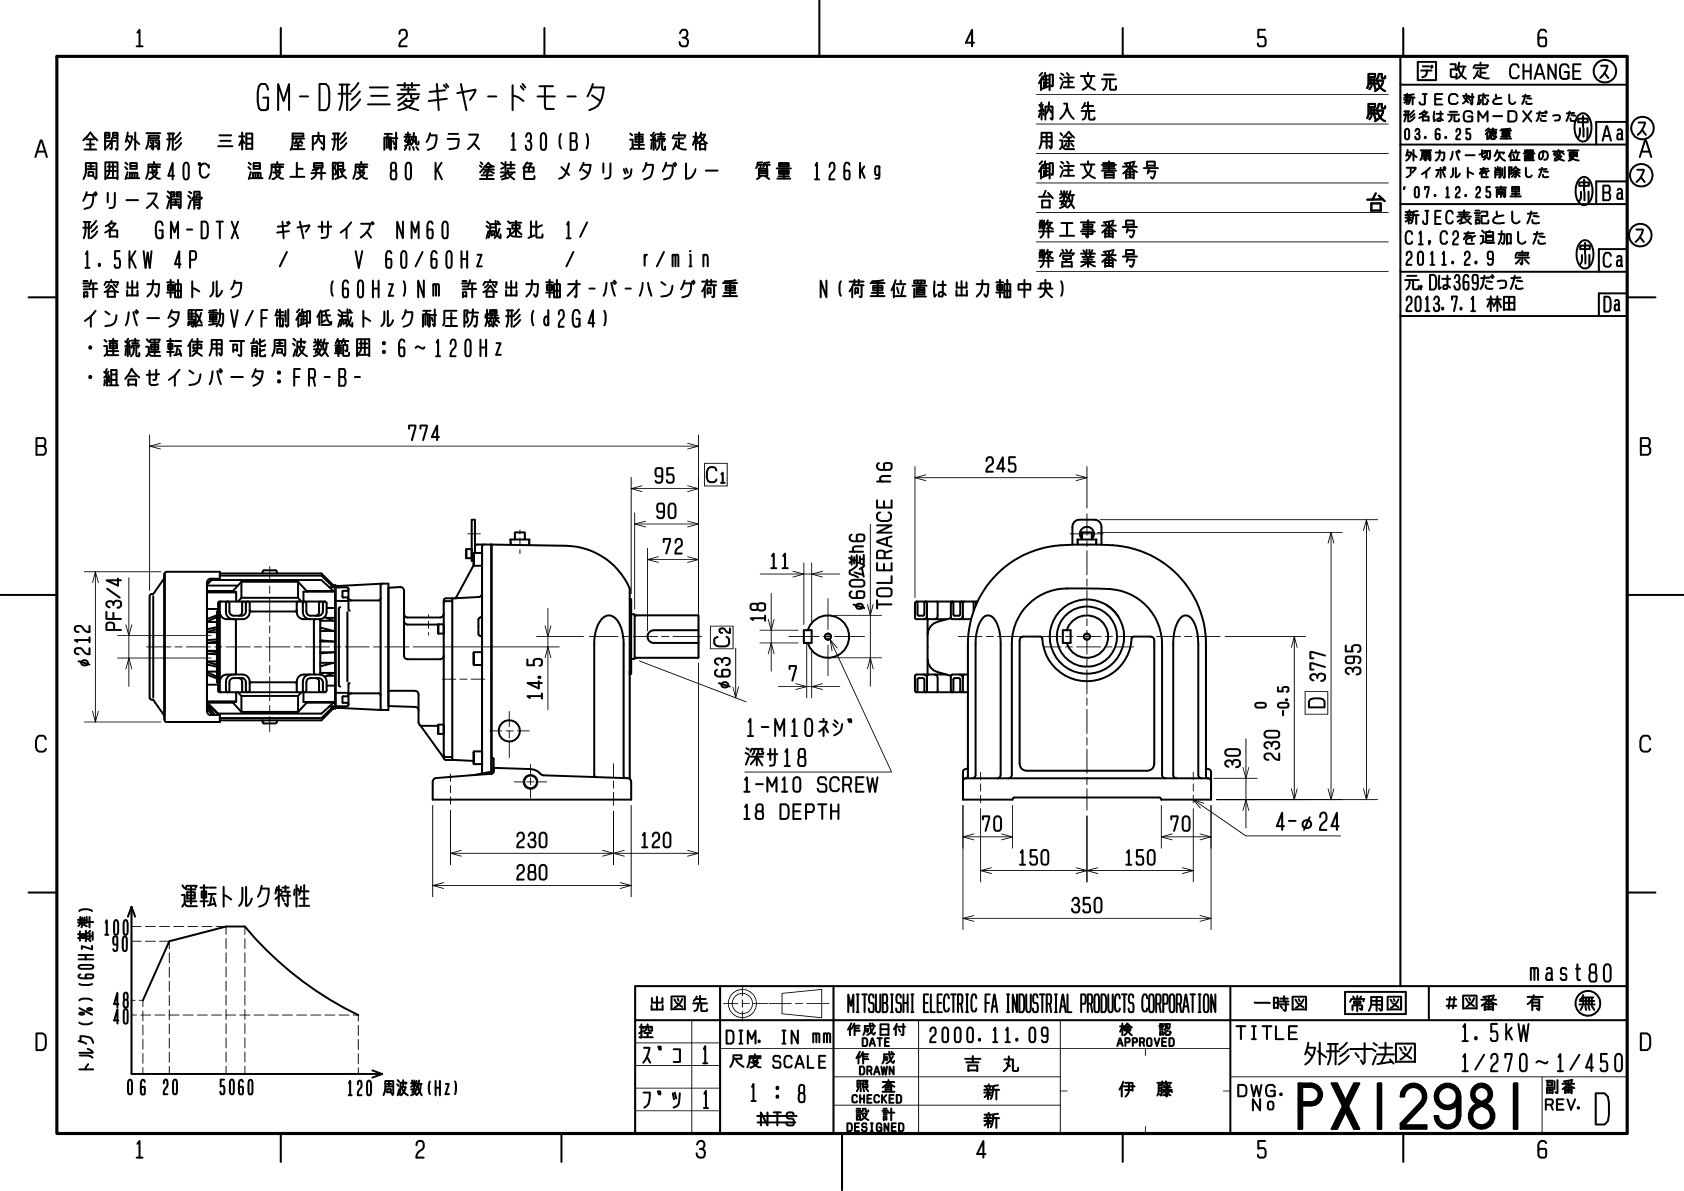GM_D_VF制御屋内_三相_脚: (70, 410, 1393, 963)
